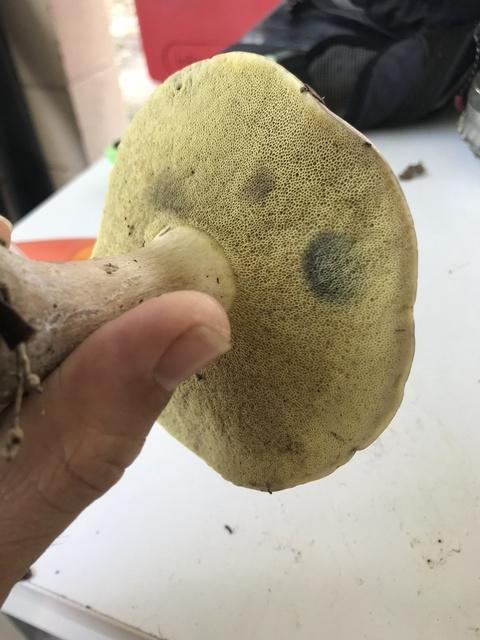edible_mushroom: (89, 49, 419, 494)
